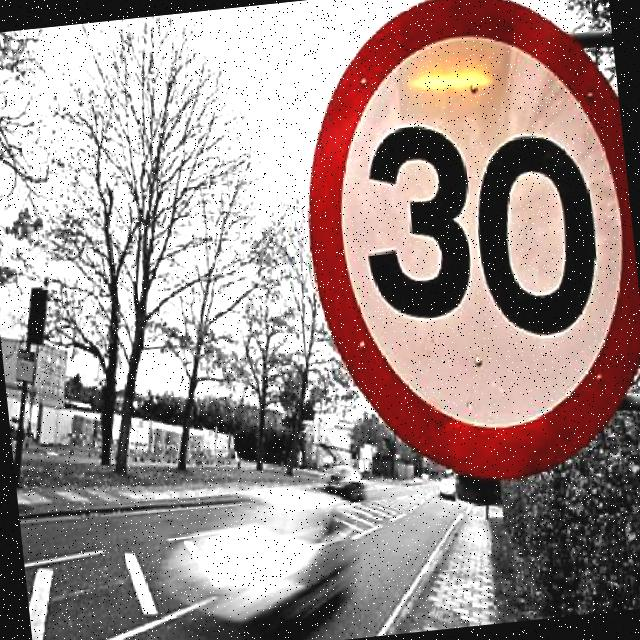Ograniczenie predkosci do 30: (283, 0, 640, 509)
